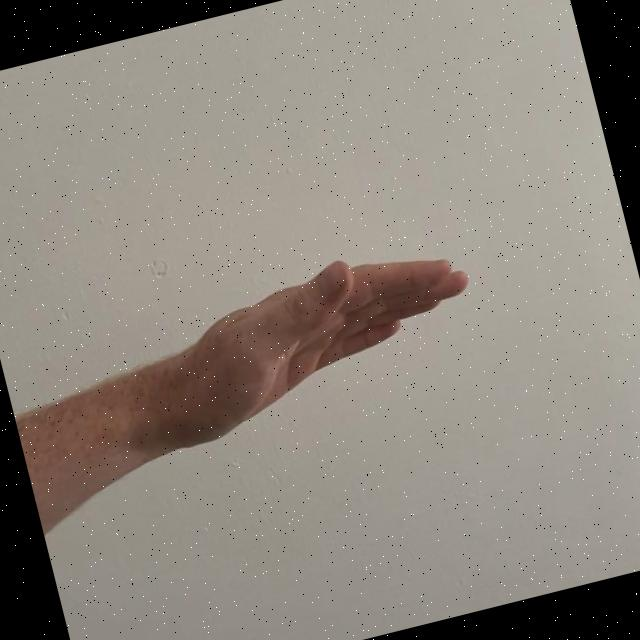papper: (82, 226, 500, 477)
